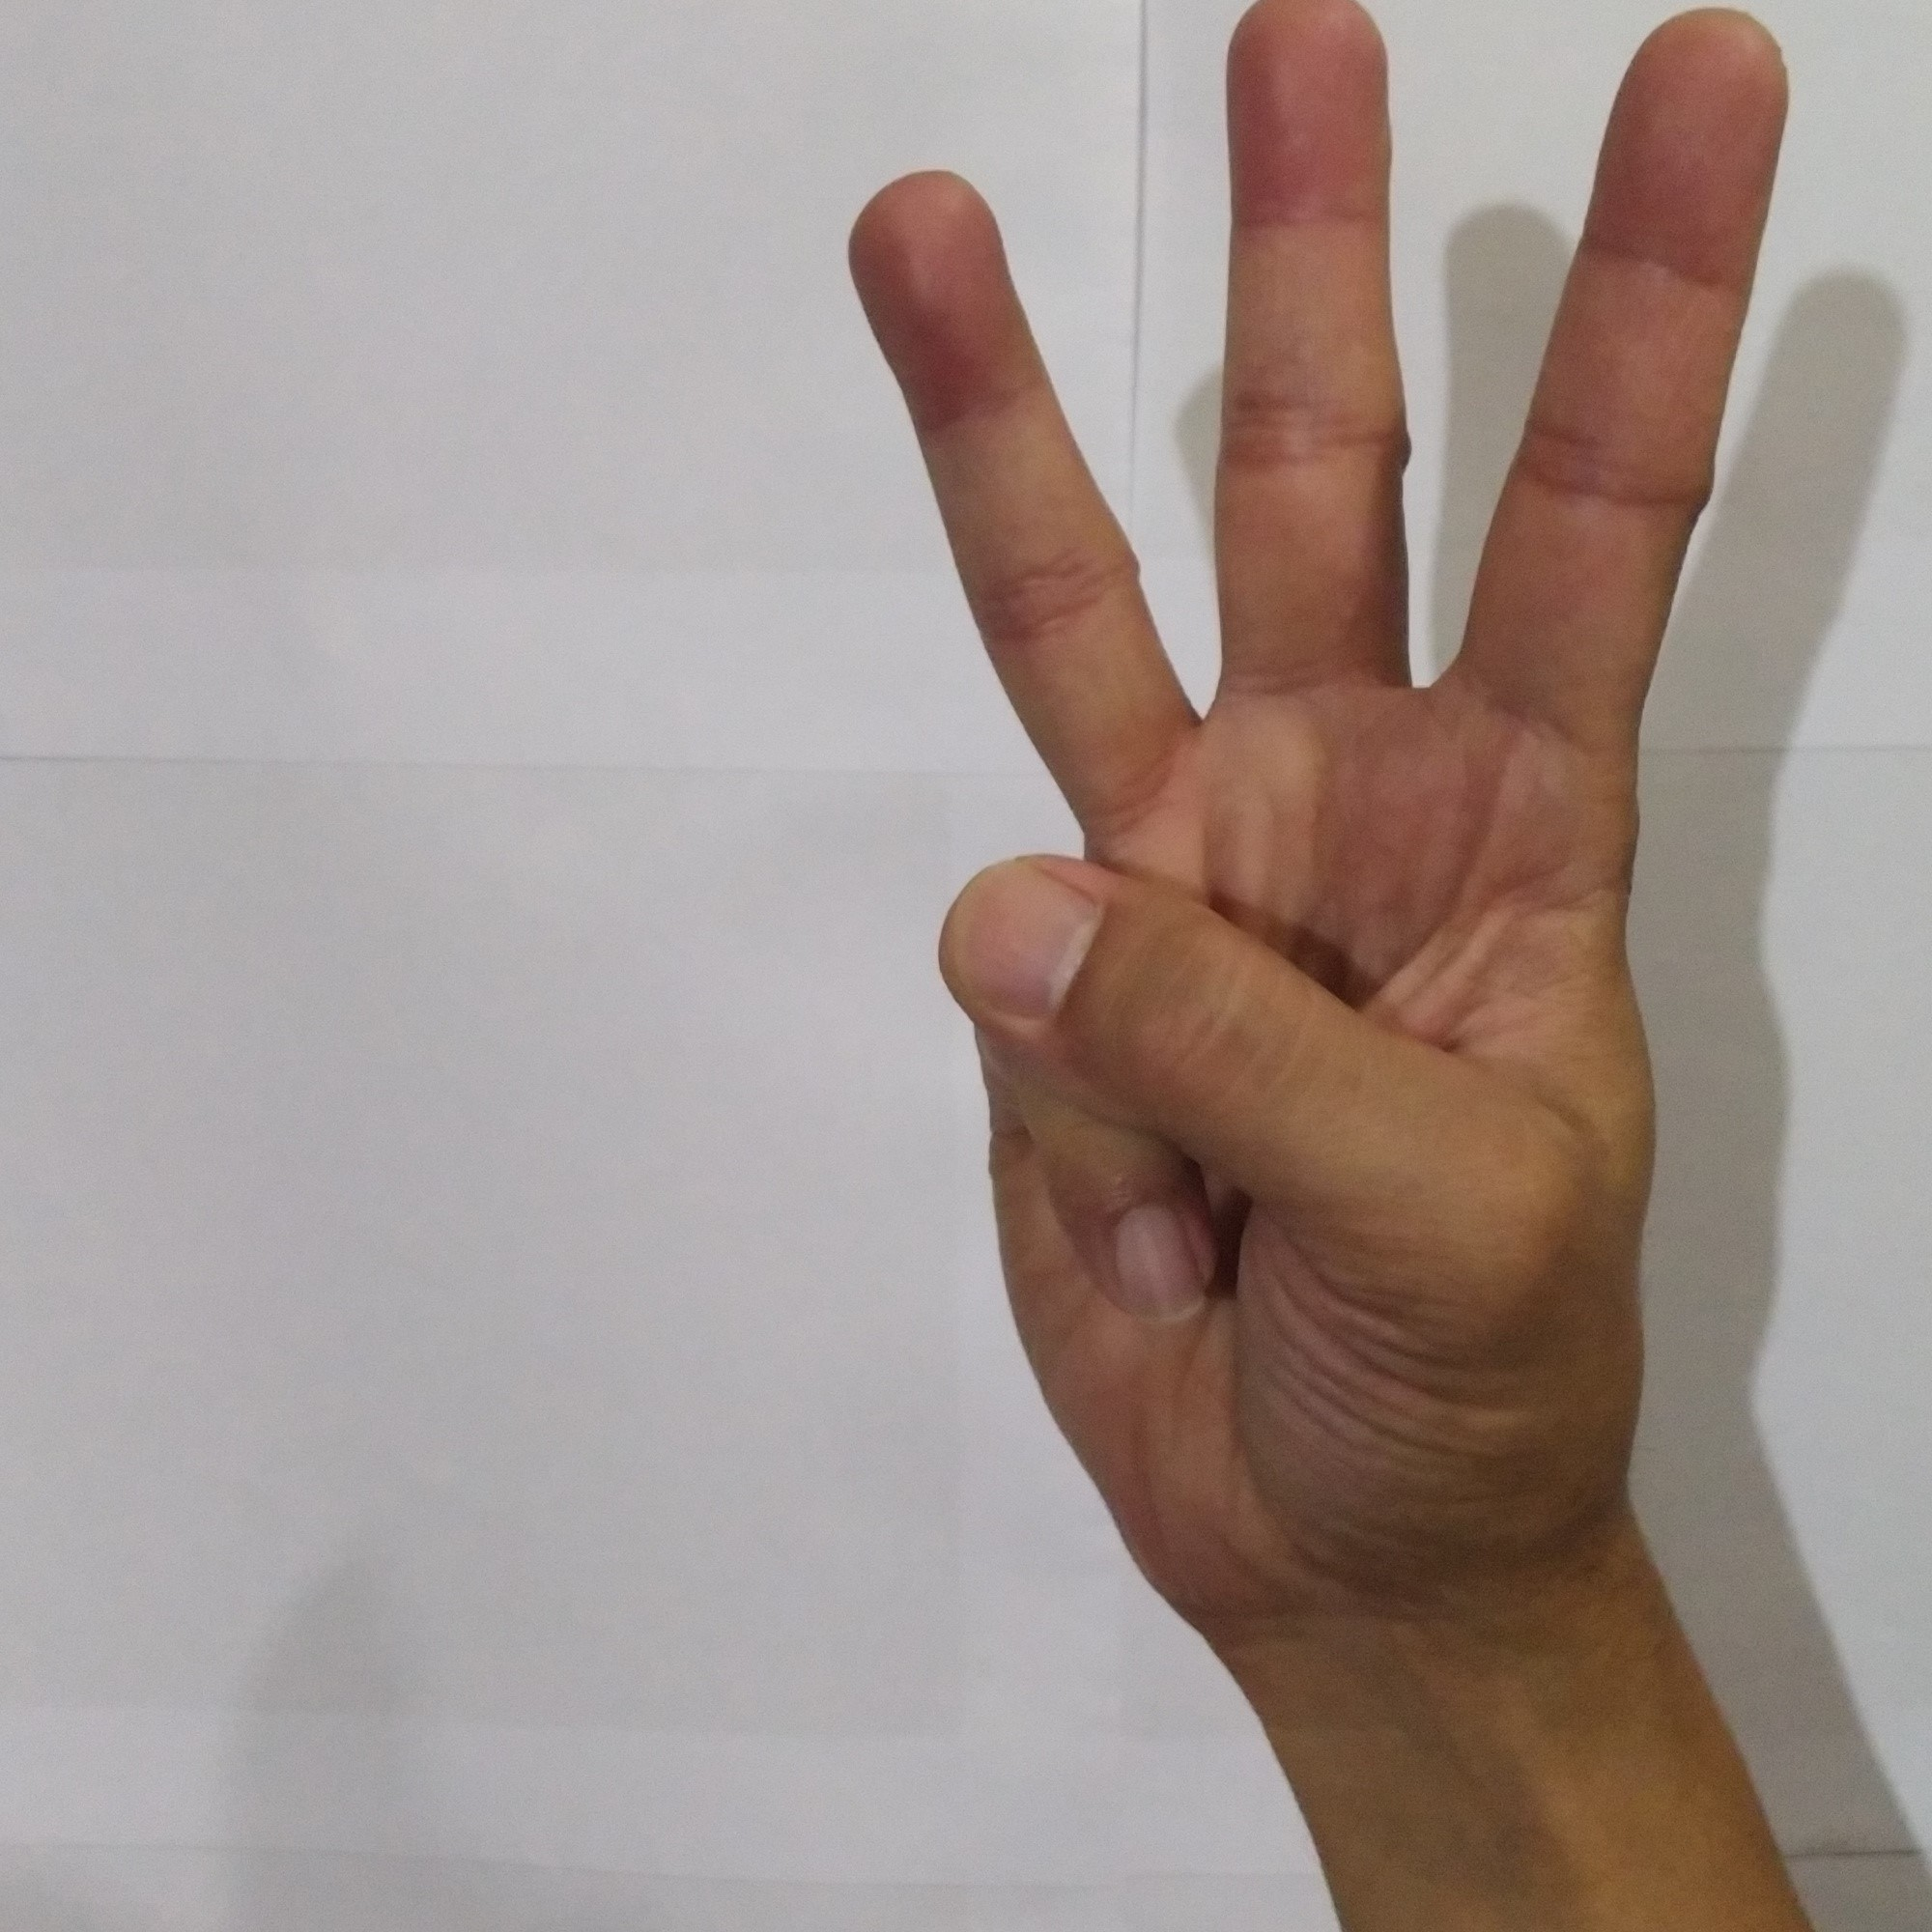W: (823, 2, 1813, 1624)
